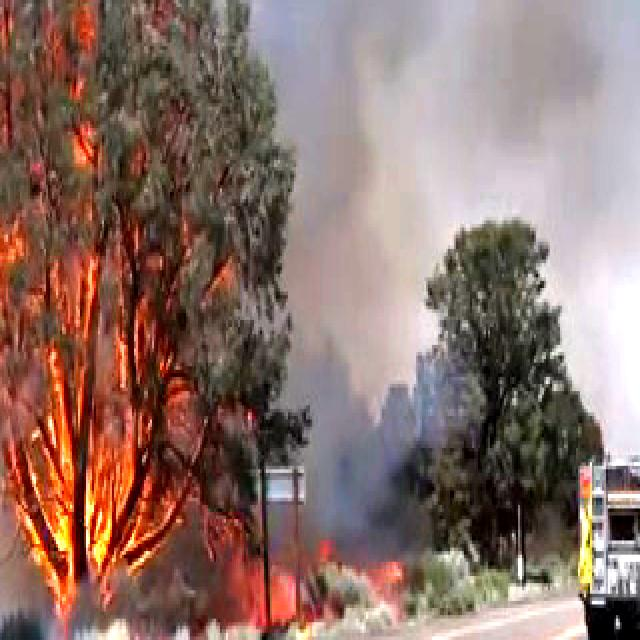fire: (0, 0, 206, 640), (236, 512, 402, 640)
smoke: (248, 0, 612, 142)
